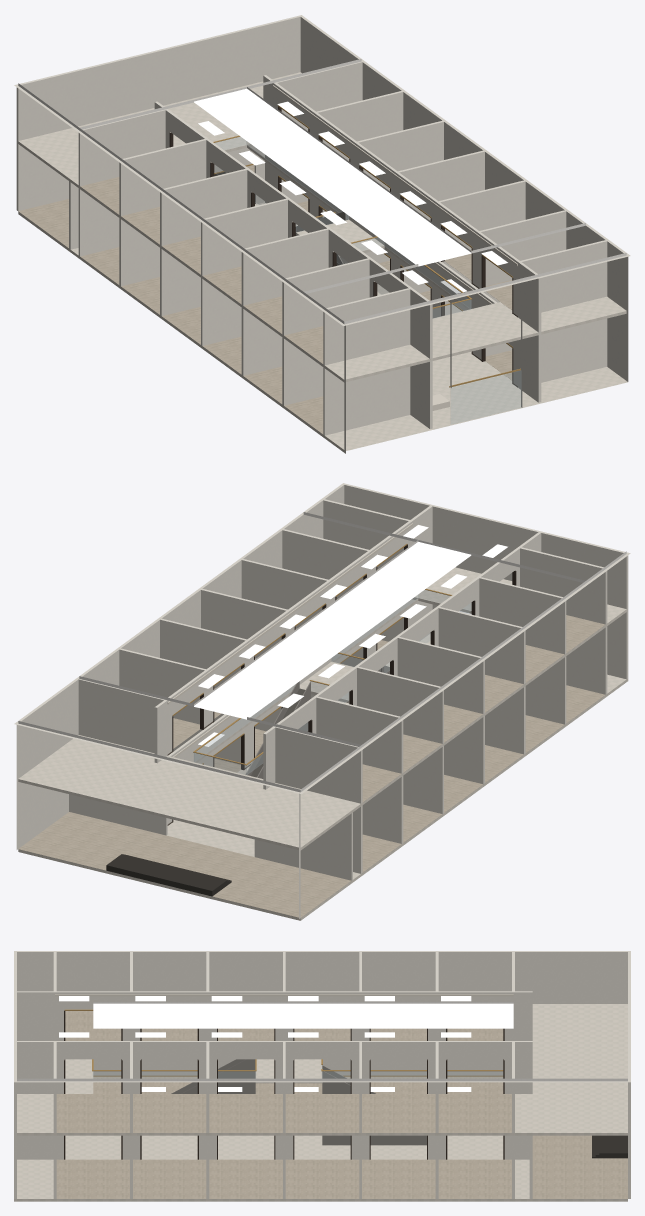
Rendered from mall.glb.
The picture shows the model from 3 angles, top to bottom: view 1: azimuth 30°, elevation 25°; view 2: azimuth 150°, elevation 25°; view 3: azimuth 270°, elevation 25°; orthographic projection. The views are drawn at different scales.
Visible parts, largest first — view 1: mall, glass, railglass; view 2: mall, railglass; view 3: mall, railglass.
Boxes of the visible parts, x1,y1,x2,y2 form: mall: [14, 15, 630, 453]; glass: [451, 370, 521, 424]; railglass: [214, 137, 471, 318]; mall: [14, 483, 630, 920]; railglass: [194, 590, 471, 774]; mall: [14, 951, 630, 1201]; railglass: [93, 1071, 502, 1078].
Bounding box in the file's own units: 32.6 × 14.2 × 64.6.
Materials: 17 (4 with a texture image).
